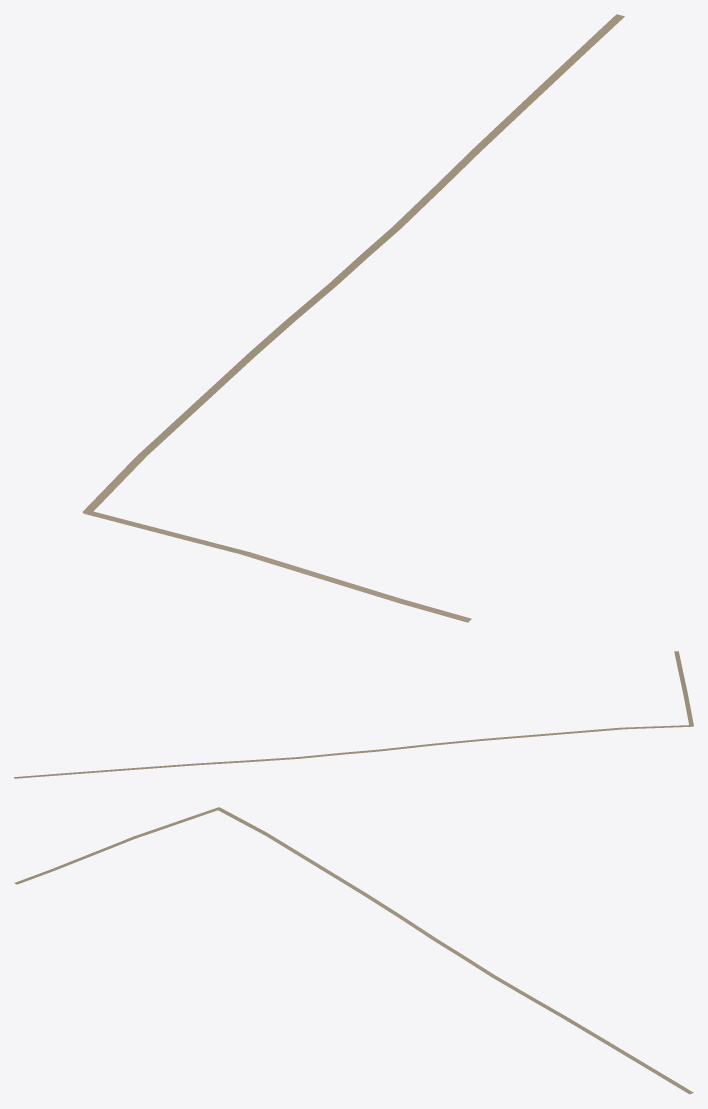
File: farm_21_22_track.glb
3 views of the same model, one above another, from view 1: azimuth 30°, elevation 25°; view 2: azimuth 150°, elevation 25°; view 3: azimuth 270°, elevation 25° (orthographic). The views are drawn at different scales.
Visible parts, largest first — view 1: geometry_0; view 2: geometry_0; view 3: geometry_0.
Boxes of the visible parts, x1,y1,x2,y2 form: geometry_0: (82,14,624,622); geometry_0: (14,651,693,778); geometry_0: (14,807,693,1094).
Size of the model in its own units: 383 by 14.03 by 412.
